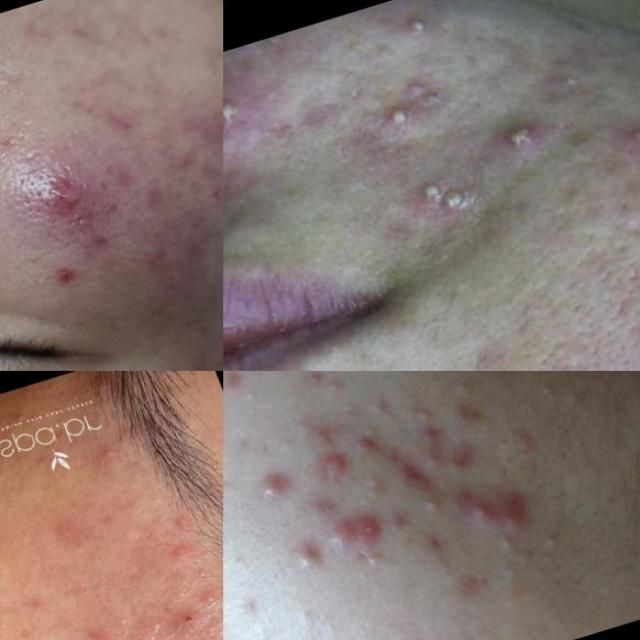8: (308, 497, 397, 563), (238, 461, 306, 521), (453, 480, 514, 540), (305, 442, 369, 494), (490, 491, 540, 546), (343, 419, 393, 462), (49, 257, 92, 301), (279, 535, 319, 581), (306, 418, 350, 459), (443, 445, 484, 480), (408, 416, 448, 451), (223, 371, 255, 399)
9: (398, 165, 494, 239), (487, 109, 558, 162), (386, 4, 448, 48), (370, 91, 426, 137), (609, 112, 640, 168), (223, 87, 254, 137)
blackheads: (49, 201, 114, 235)
pustules: (0, 124, 112, 223)
